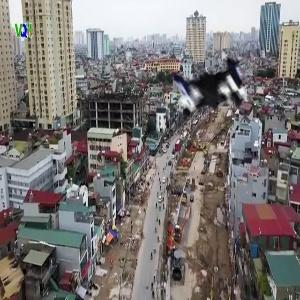drone: (133, 5, 266, 138)
